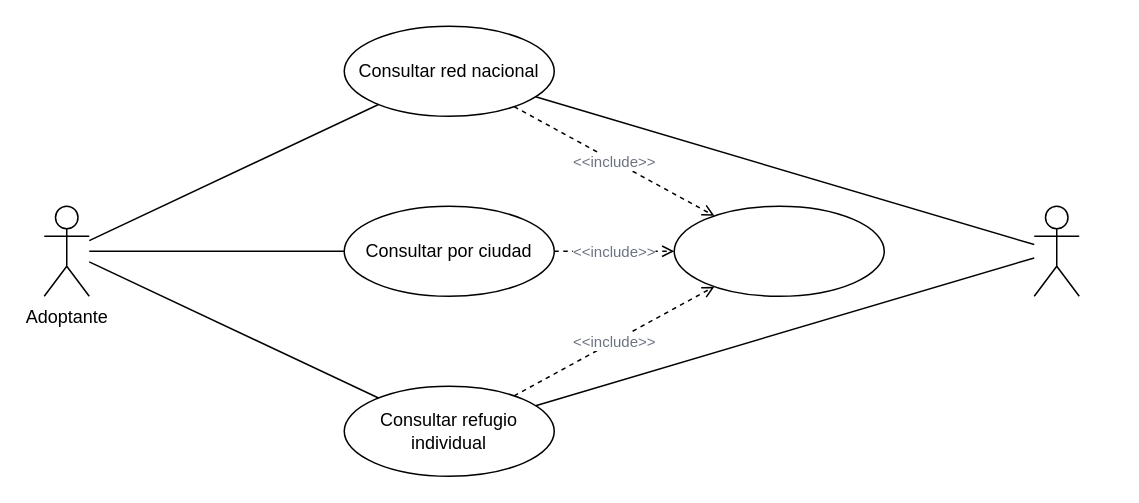
Some shapes in this 1139 by 503 pixel diagram are drawn without their labels. The shapes that lost their labels are listed below. From the top down, each one's centre as x and y in pixels, then its label:
point 778,250: Obtener conteo y listado
point 1056,250: Administrador de Refugio
